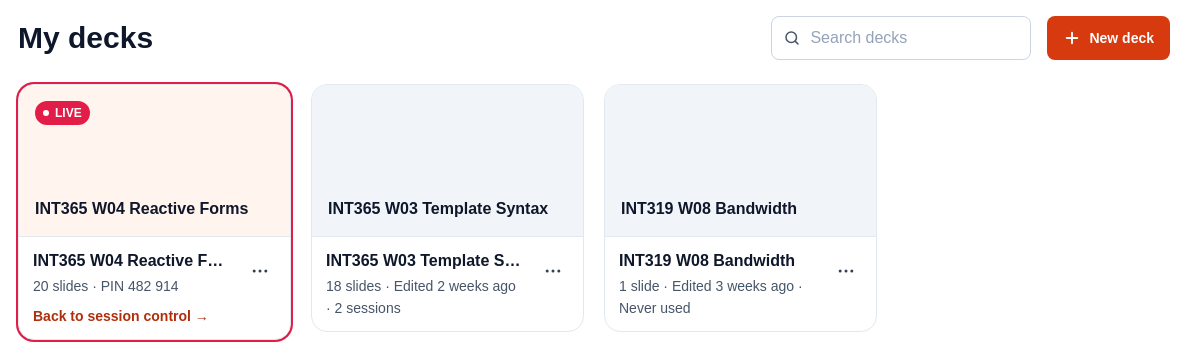
Test: DeckList › shows each deck with its facts, and live decks with PIN and a way back
Check: the element "INT365 W04 Reactive Forms" shows "LIVE", box [55,106,82,120]
Check: the element "INT365 W04 Reactive Forms" shows "20 slides · PIN 482 914", box [33,278,178,294]
Click the button named "Actions for INT365 W04 Reactive Forms". click: (260, 271)
box: [238,249,282,293]
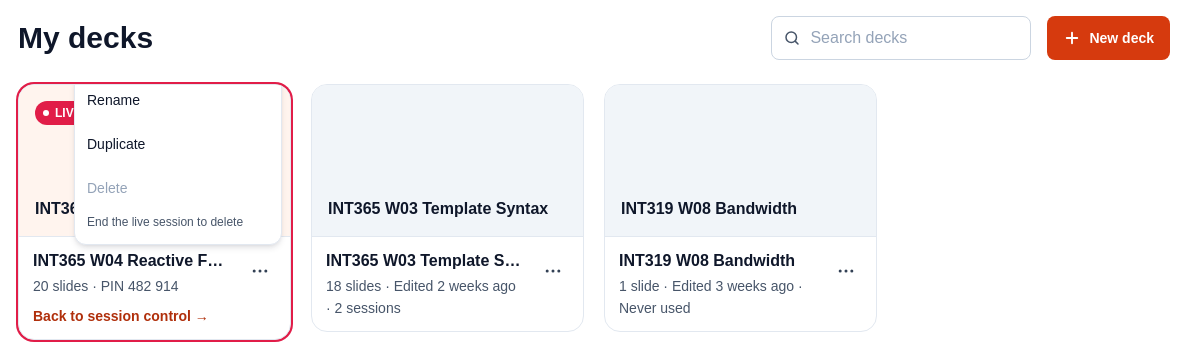
Check: the button "Delete" is disabled, box [75,166,281,210]
Check: the text "End the live session to delete" is shown, box [87,215,243,229]
